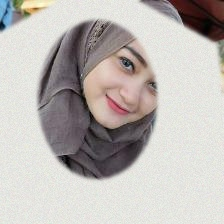Mukena: (0, 27, 210, 224)
